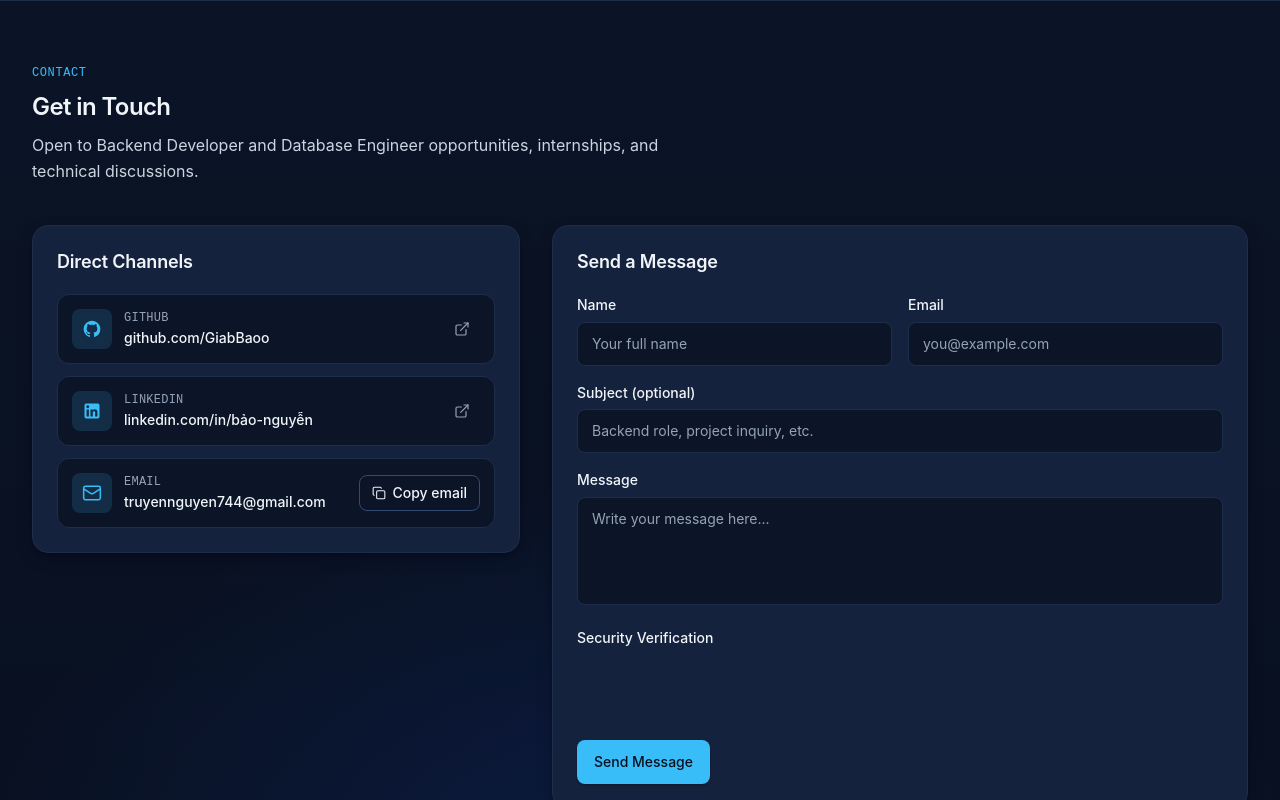
Test: ContactSection & contact-api integration › handles 400 VALIDATION_ERROR without turnstileToken: keeps token & user data, maps to EN (no raw VI backend message)
In the field labelled "Name": (734, 343) [577,322,892,365], type "Nguyen Van A"
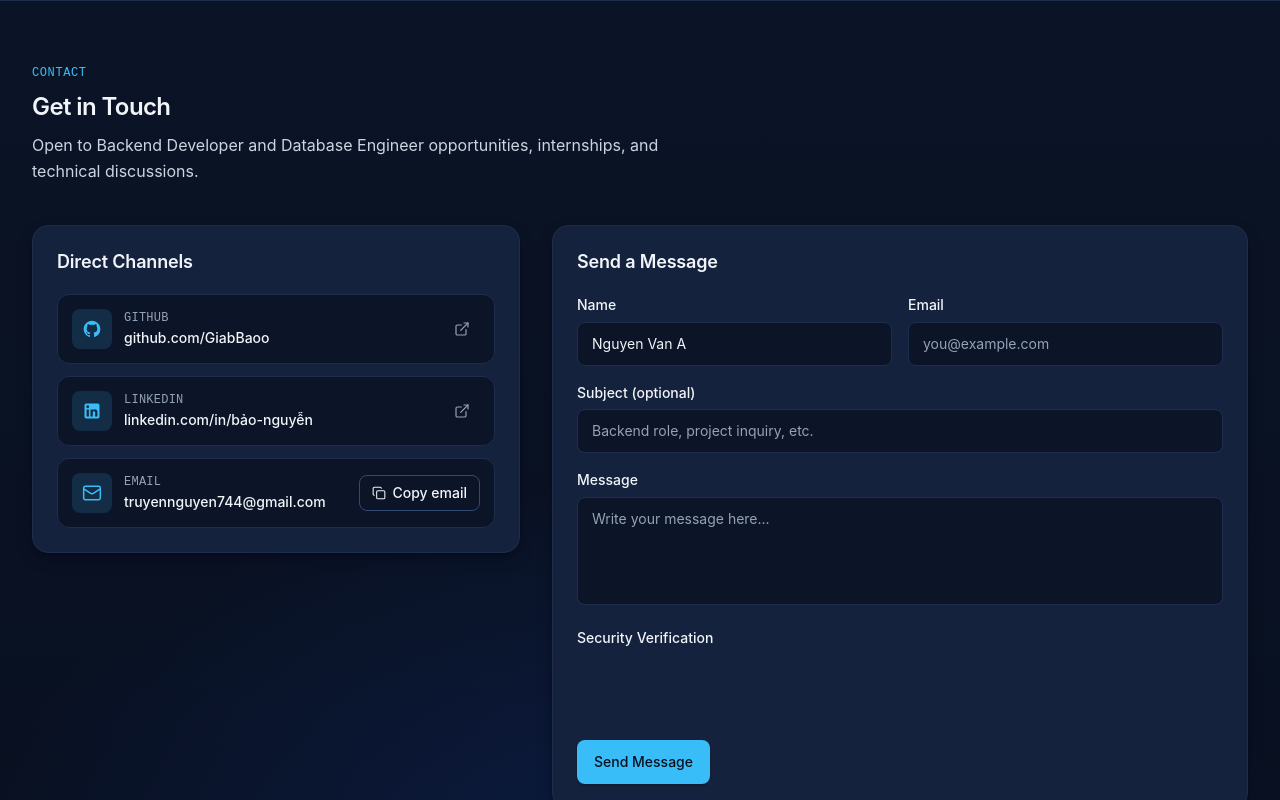
In the field labelled "Email": (1066, 343) [908,322,1223,365], type "user@example.com"
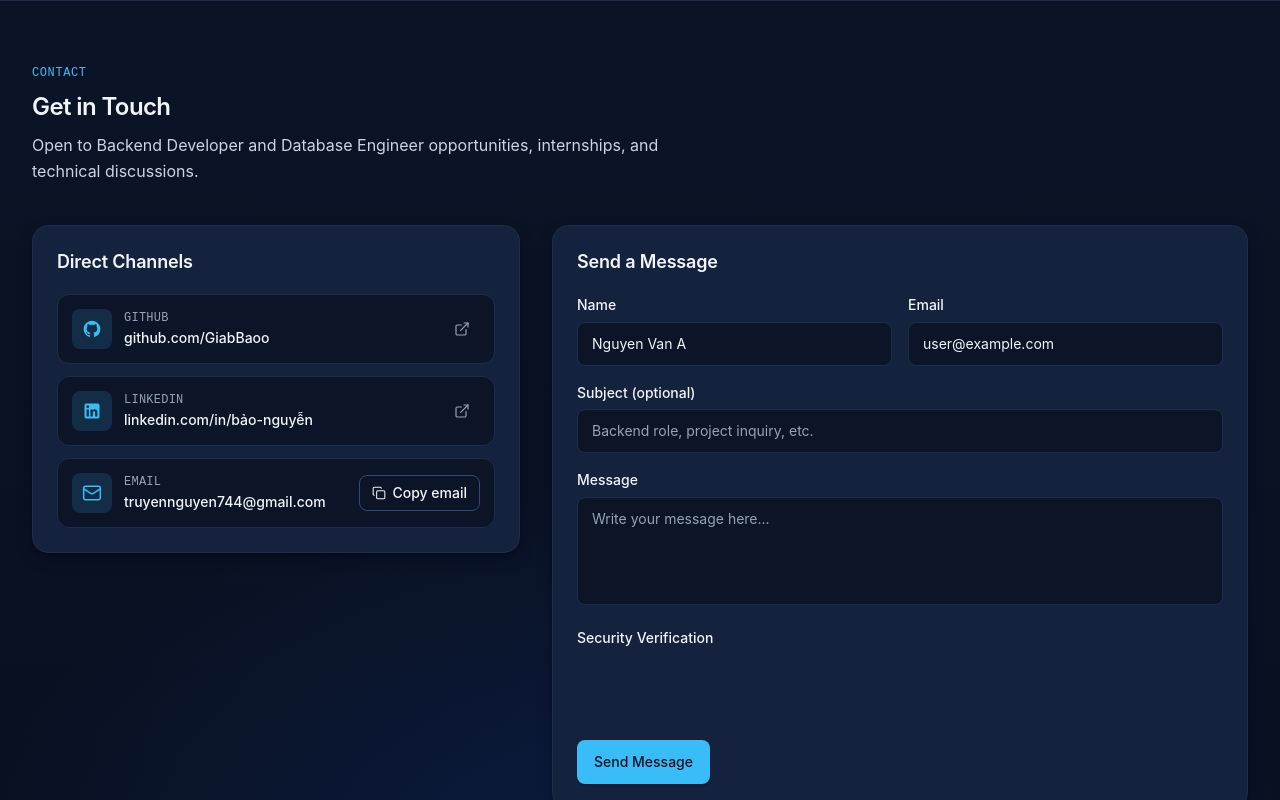
In the field labelled "Subject (optional)": (900, 431) [577,409,1223,453], type "Backend opportunity"
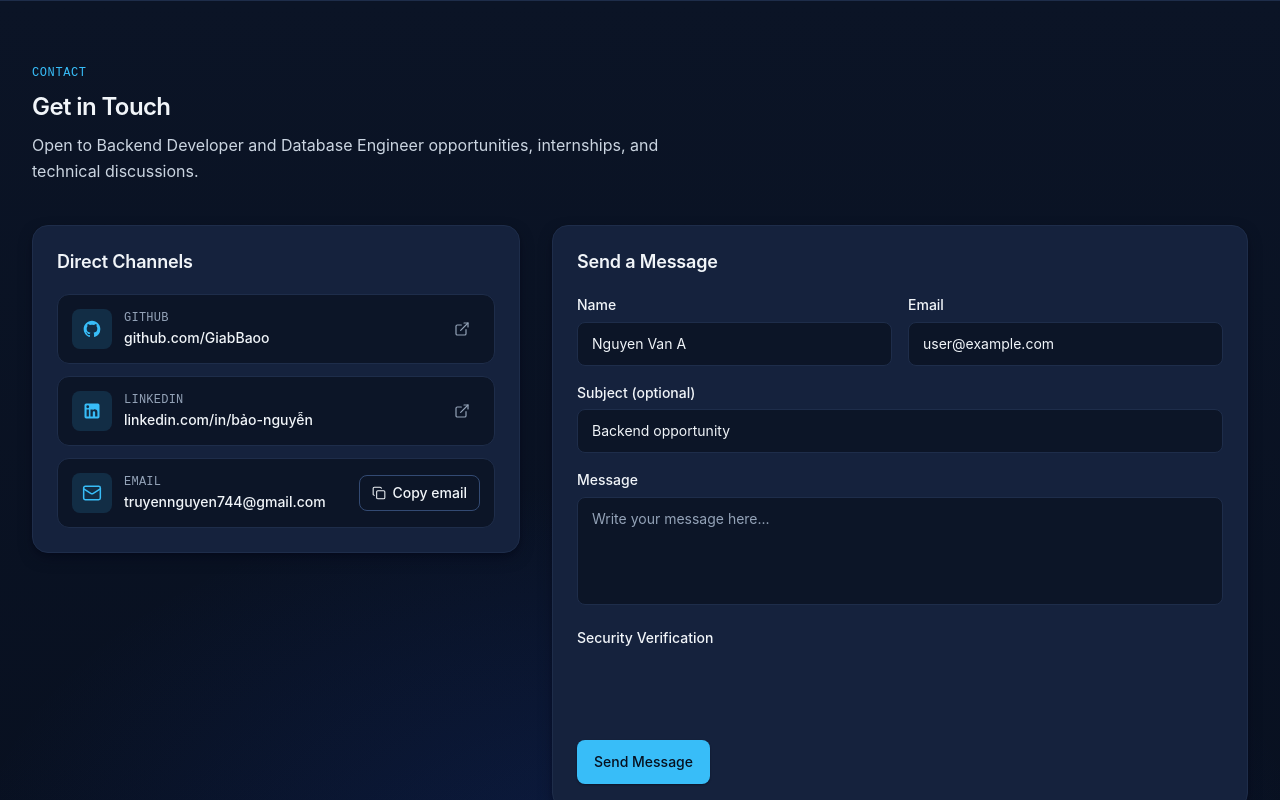
In the text box labelled "Message": (900, 551) [577,496,1223,605], type "Hello Gia Bao, I would like to discuss a backend engineering role."
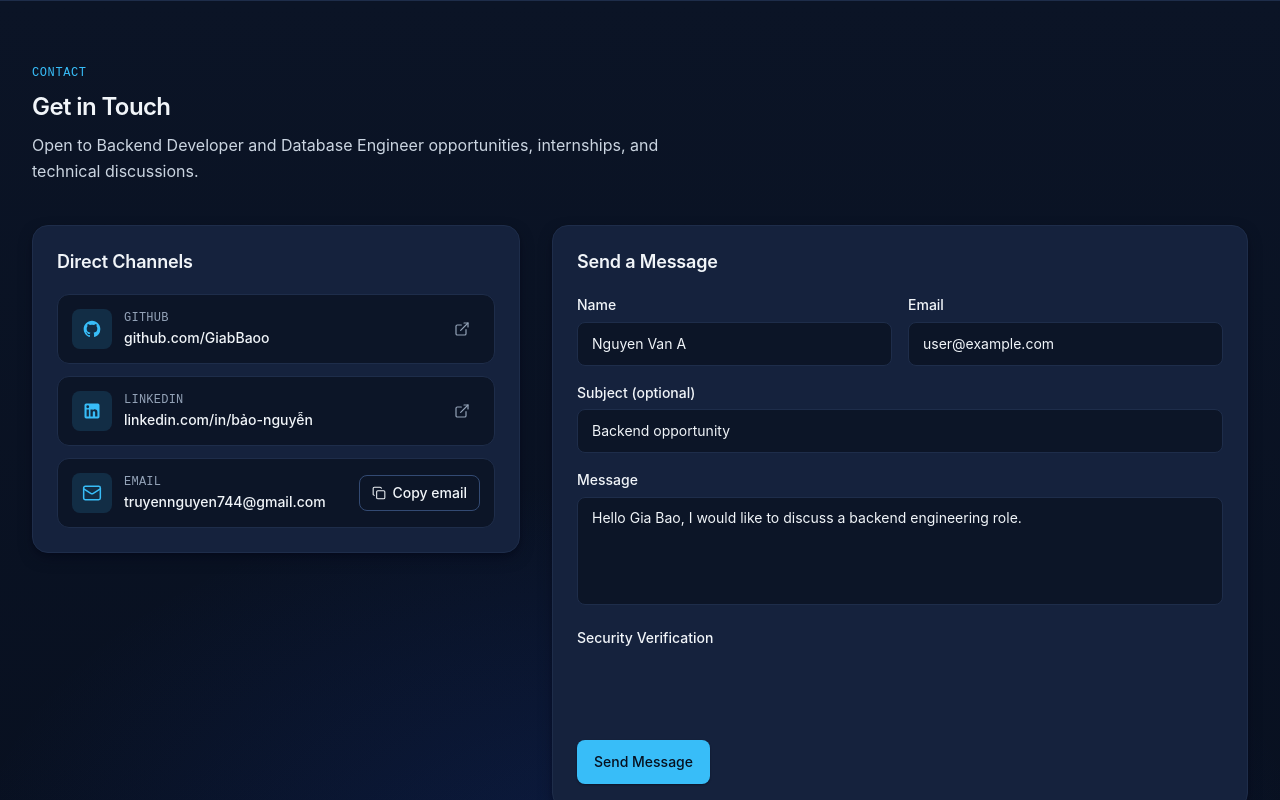
Click the button "Send Message": (644, 762) [577,740,710,784]
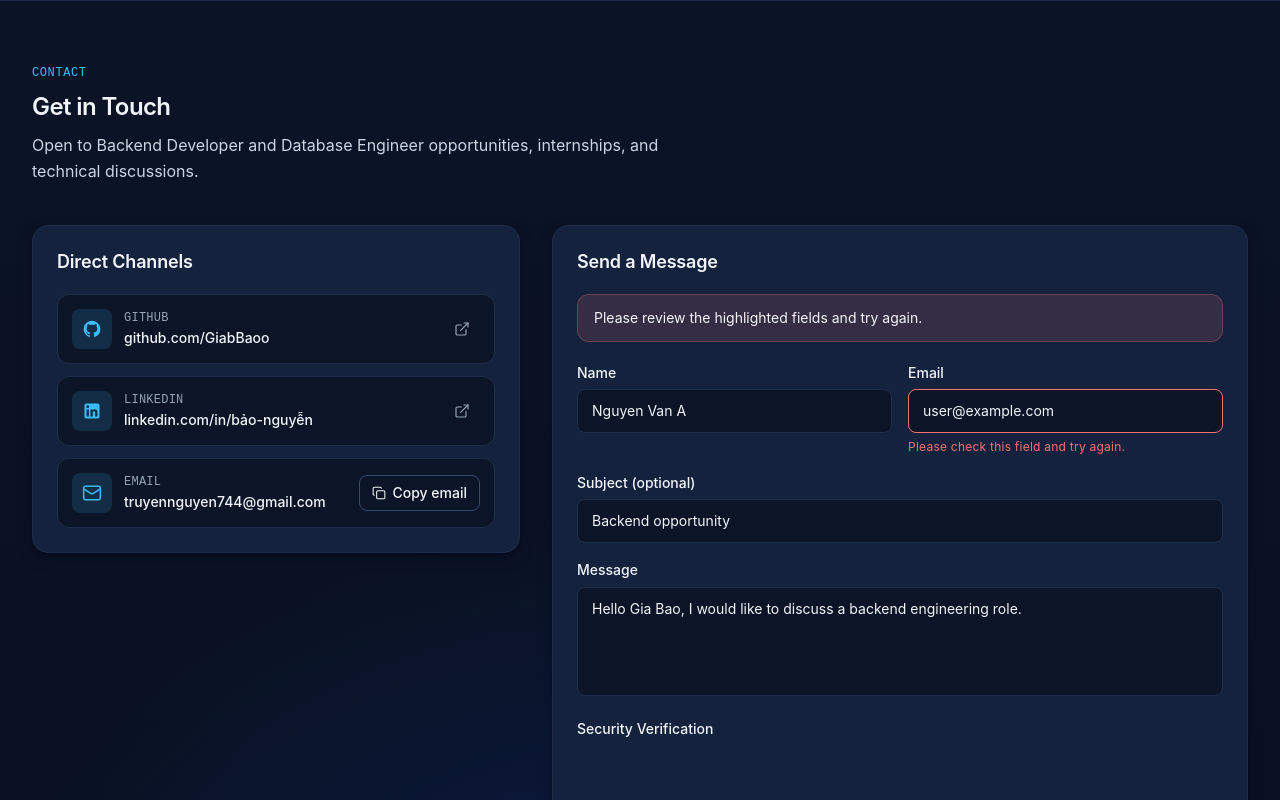
Check: the text "Please review the highlighted fields and try again." is shown, box [577,294,1223,342]
Check: the text "Please check this field and try again." is shown, box [908,439,1125,454]
